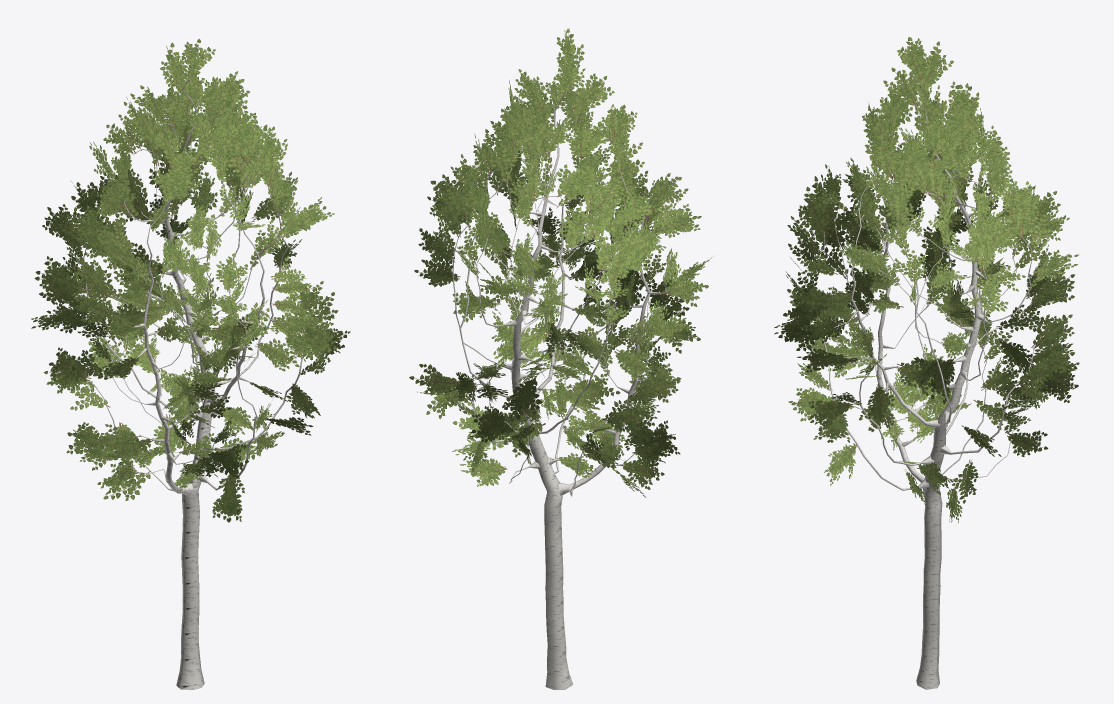
File: Scenery_Birch.fbx
3 views of the same model, side by side, from view 1: azimuth 30°, elevation 25°; view 2: azimuth 150°, elevation 25°; view 3: azimuth 270°, elevation 25° (orthographic).
Visible parts, largest first — view 1: Scenery_Birch_LOD0; view 2: Scenery_Birch_LOD0; view 3: Scenery_Birch_LOD0.
Boxes of the visible parts, <box> form: Scenery_Birch_LOD0: <box>31,39,350,689</box>; Scenery_Birch_LOD0: <box>409,28,711,689</box>; Scenery_Birch_LOD0: <box>774,37,1079,689</box>.
Size of what is drawn, in the model's own units: 7.78 by 16.64 by 7.89.
